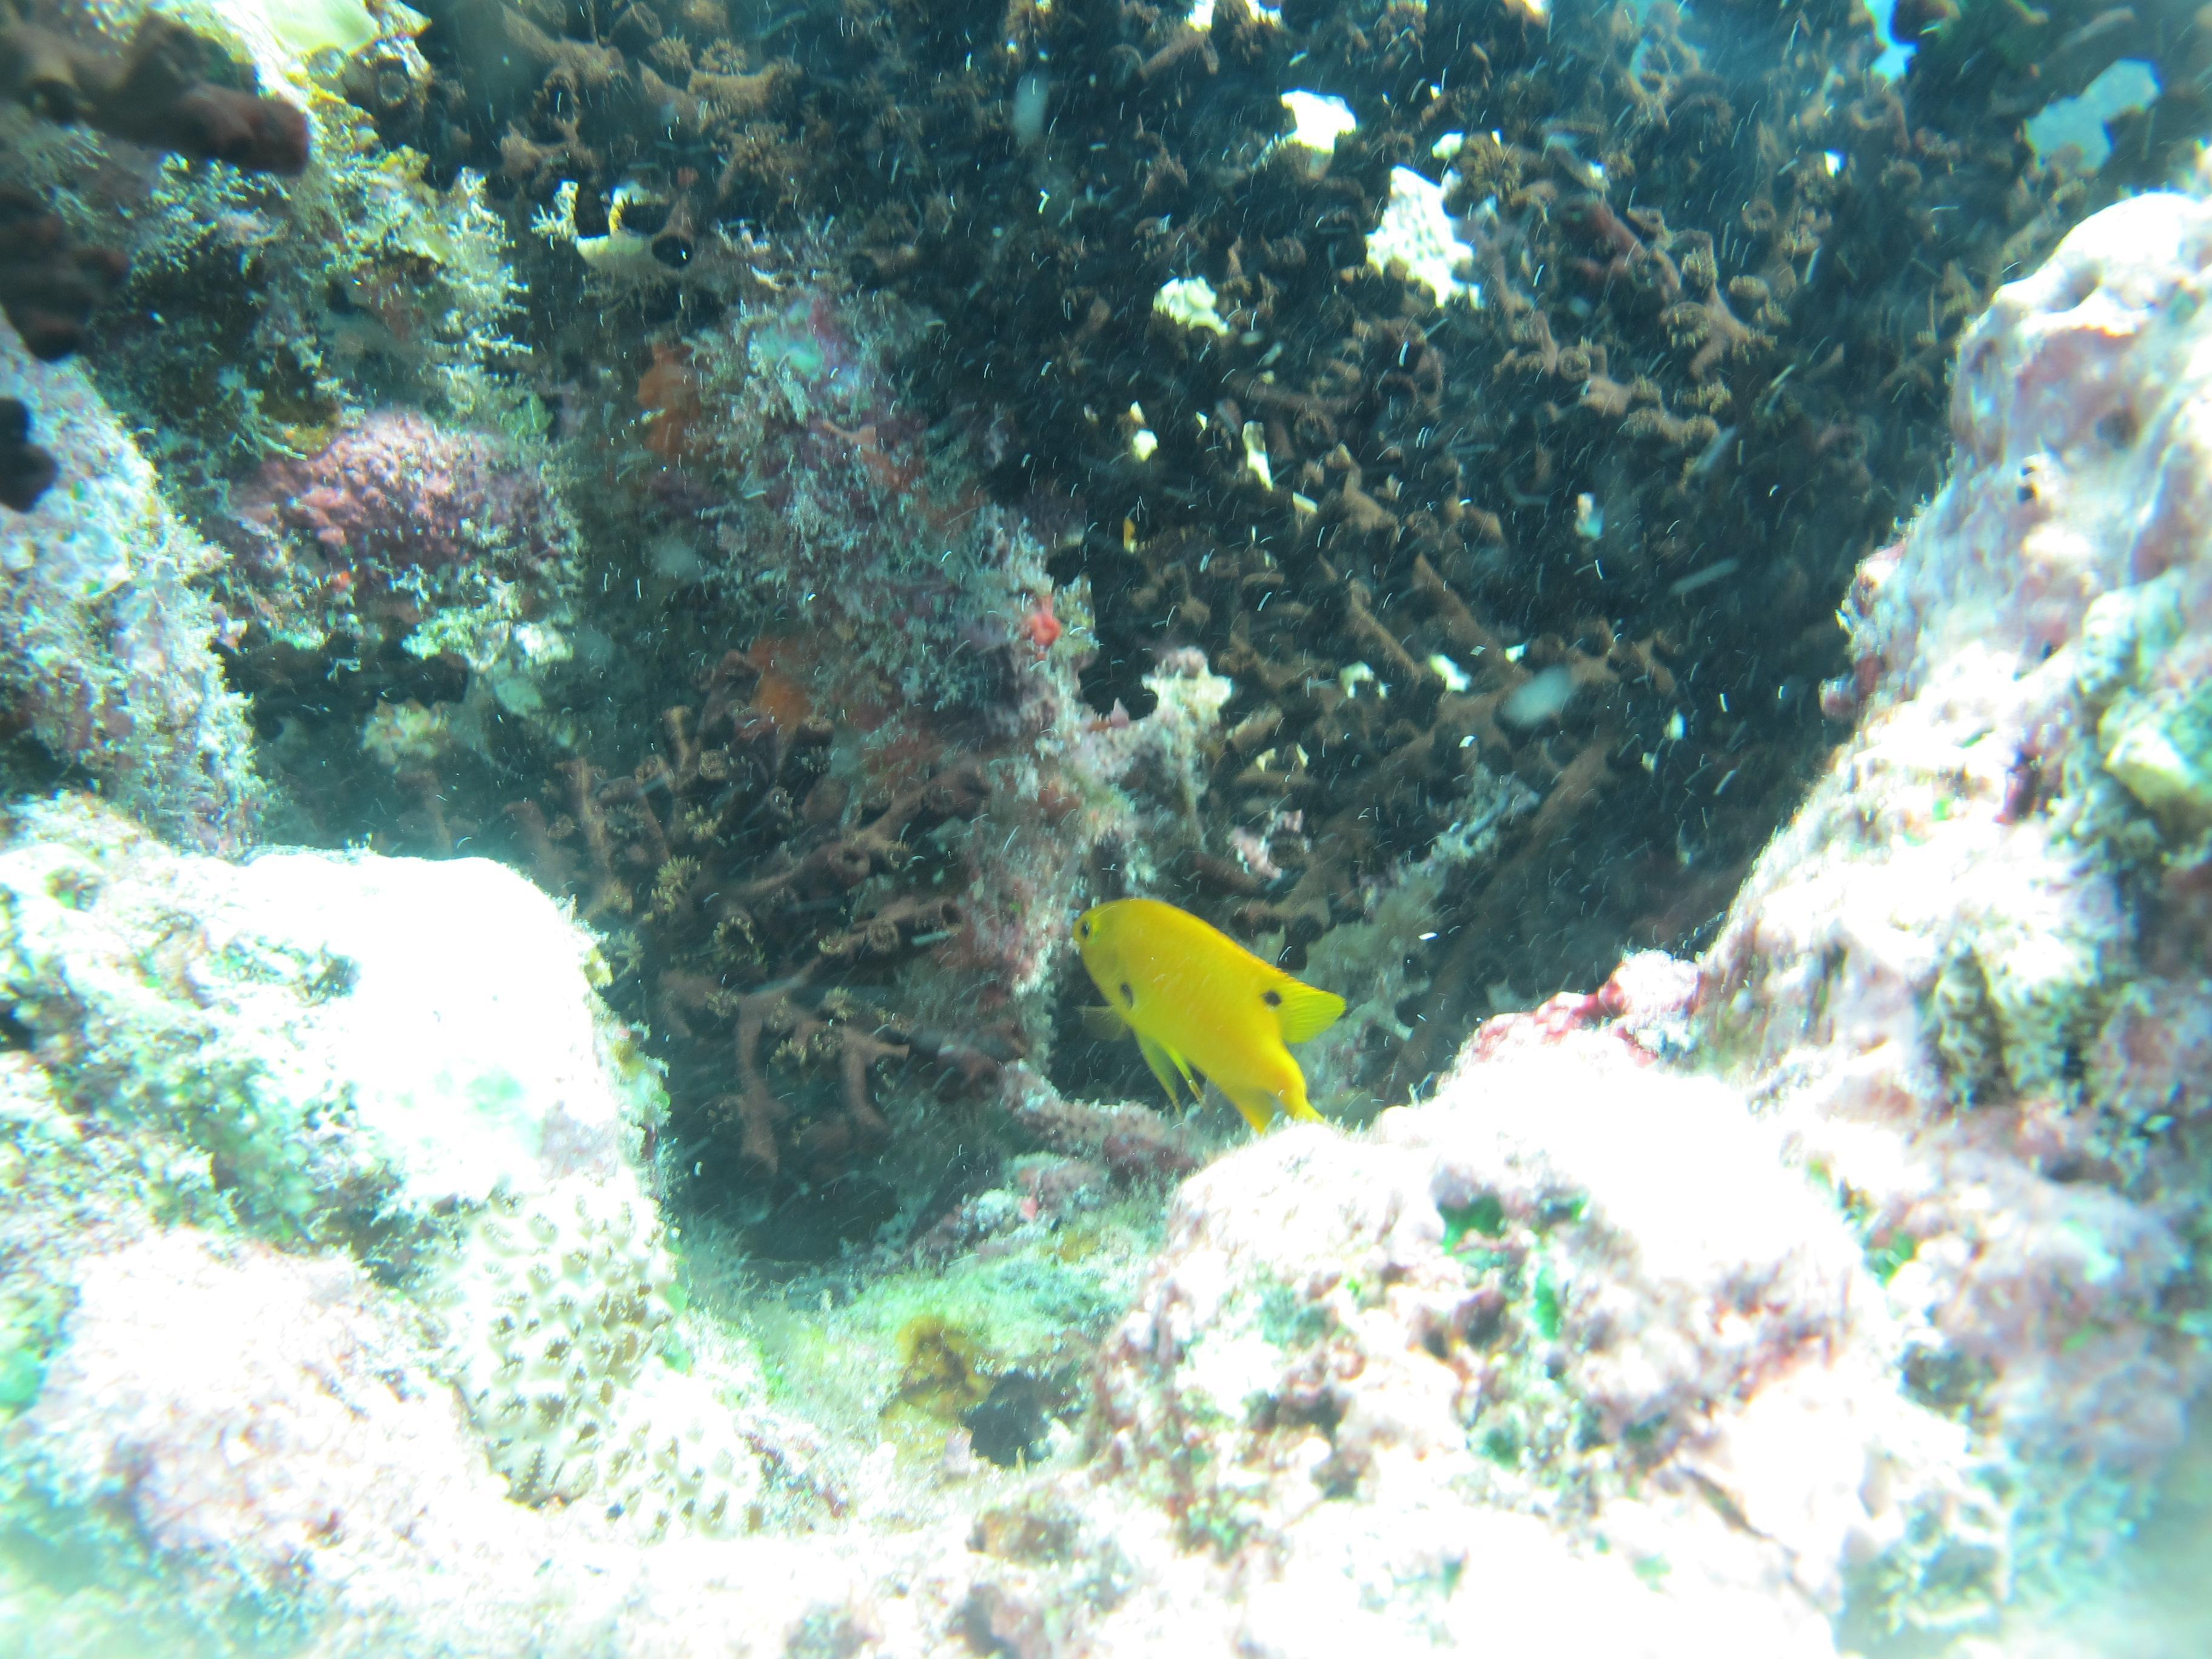Fish: (1065, 883, 1375, 1156)
